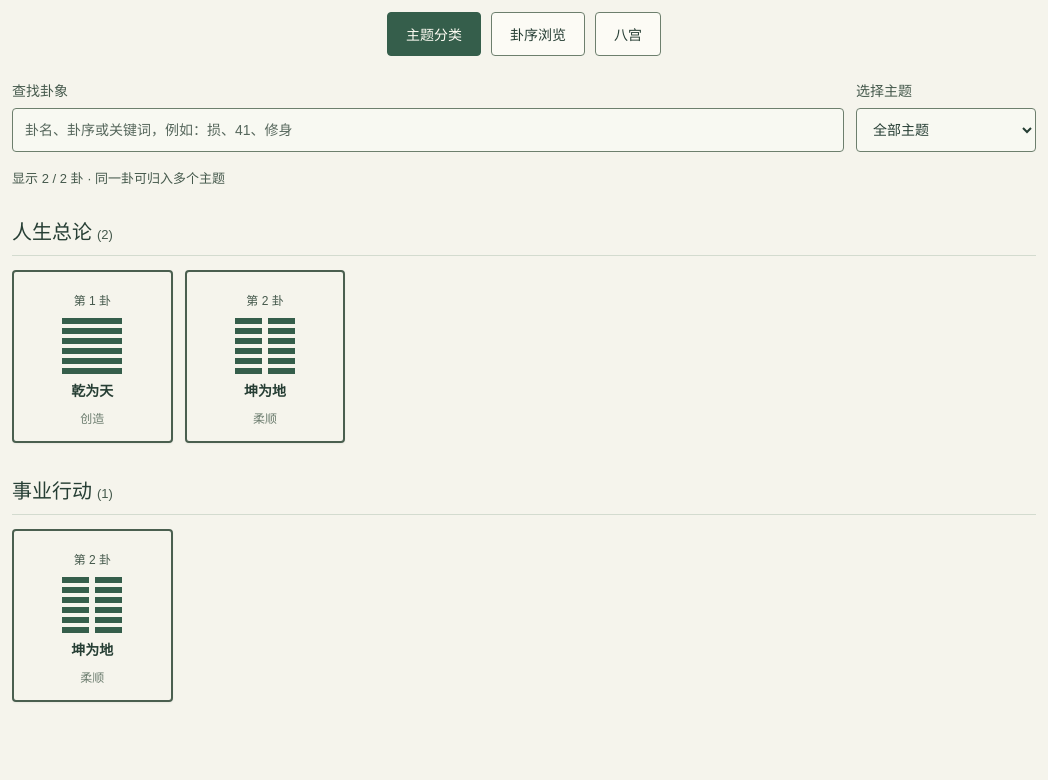
Test: CodexGrid › shows each hexagram once in sequence view and removes the group selector
Step 1. Click the button "卦序浏览" → (538, 34), box [491, 12, 585, 56]
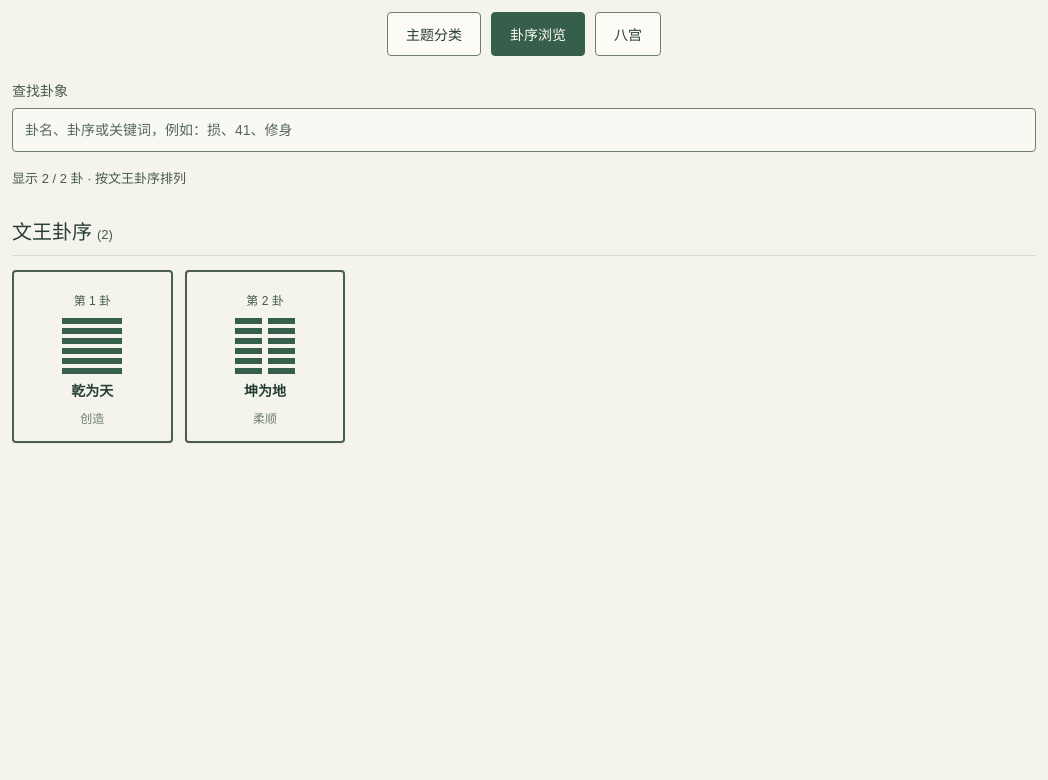
Check: the dropdown is gone
Step 2. Type "没有这个卦" into the search field → (524, 130), box [12, 108, 1036, 152]
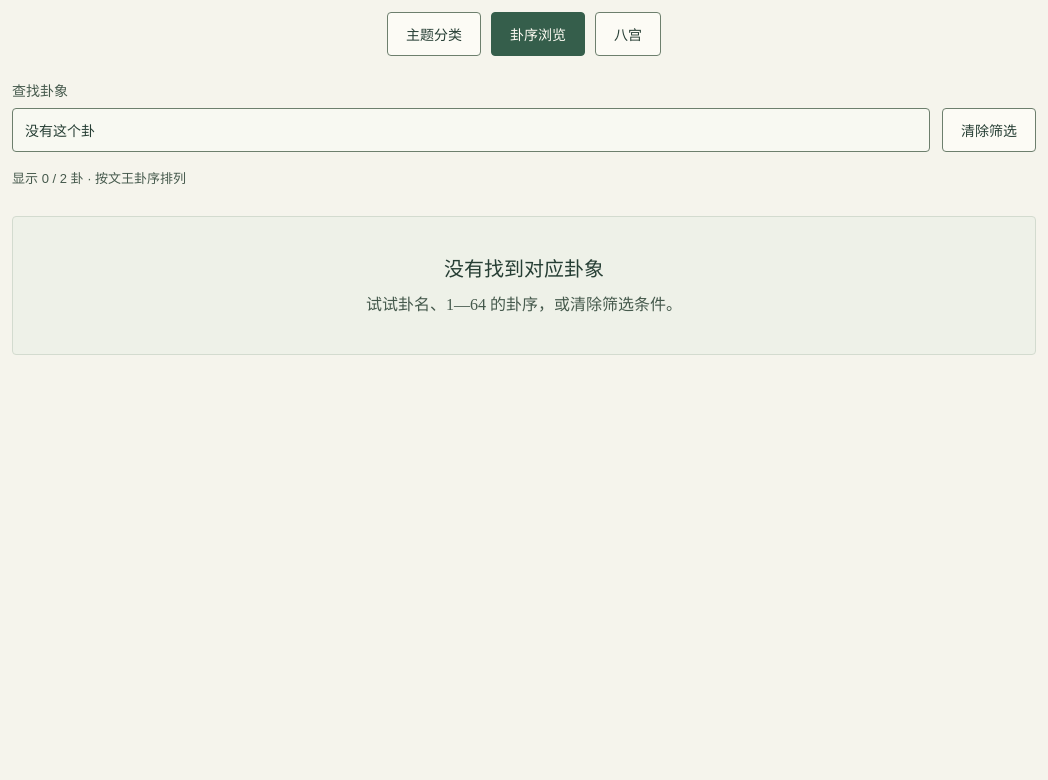
Check: the heading "没有找到对应卦象" is shown, box [444, 258, 604, 280]
